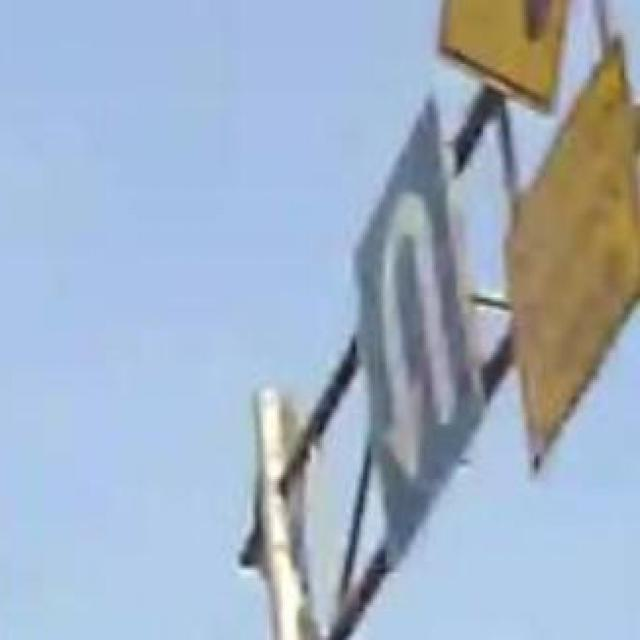U-turn: (348, 116, 479, 537)
